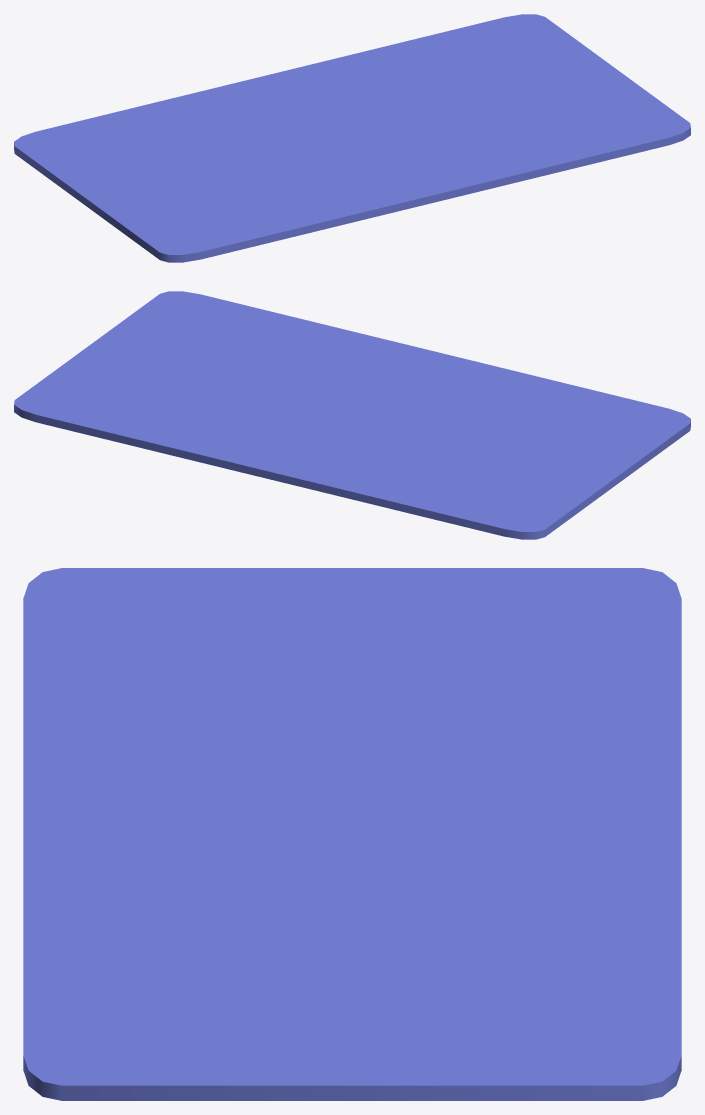
Rendered from workbench_mat.glb.
The picture shows the model from 3 angles, top to bottom: view 1: azimuth 30°, elevation 25°; view 2: azimuth 150°, elevation 25°; view 3: azimuth 270°, elevation 25°; orthographic projection. The views are drawn at different scales.
Parts seen in each view (by area): view 1: Workbench Mat; view 2: Workbench Mat; view 3: Workbench Mat.
Part boxes in pixels (x1,y1,x2,y2): Workbench Mat: [14, 14, 690, 262]; Workbench Mat: [14, 291, 690, 539]; Workbench Mat: [23, 568, 681, 1100].
Bounding box in the file's own units: 2.4 × 0.0329 × 1.29.
